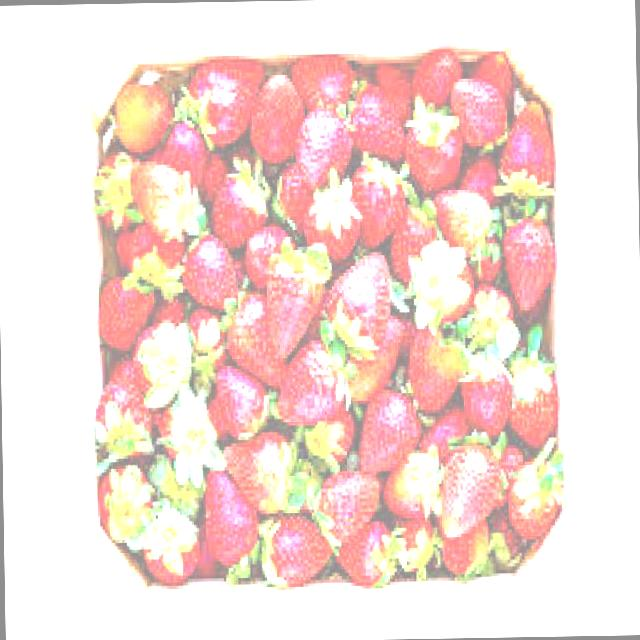Strawberry: (178, 59, 272, 148), (433, 438, 503, 538), (326, 250, 393, 353), (222, 432, 300, 517), (276, 340, 352, 425), (495, 100, 559, 200), (266, 253, 326, 359), (358, 383, 423, 472), (310, 468, 382, 548), (349, 160, 410, 250), (294, 103, 355, 192), (128, 321, 190, 407), (206, 170, 270, 250), (132, 160, 192, 240), (406, 116, 464, 196), (181, 236, 240, 314), (348, 84, 406, 162), (215, 368, 270, 443), (304, 192, 358, 262)
